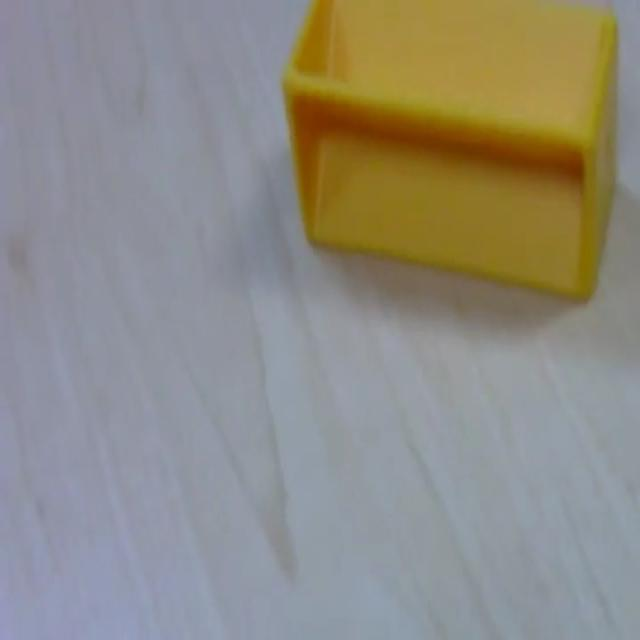yellow_block: (281, 0, 619, 303)
